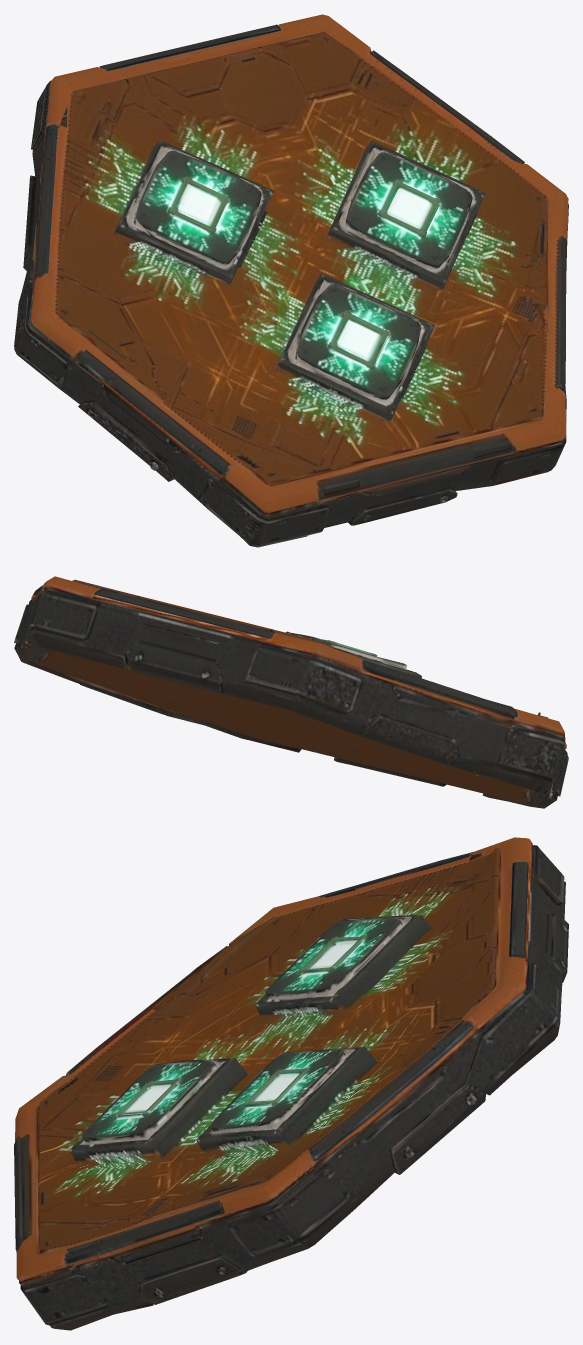
File: colline_v1.glb
The picture shows the model from 3 angles, top to bottom: view 1: azimuth 30°, elevation 25°; view 2: azimuth 150°, elevation 25°; view 3: azimuth 270°, elevation 25°; orthographic projection. The views are drawn at different scales.
Parts seen in each view (by area): view 1: tripo_node_44a103f0-3820-4a60-8407-451562a71c2d; view 2: tripo_node_44a103f0-3820-4a60-8407-451562a71c2d; view 3: tripo_node_44a103f0-3820-4a60-8407-451562a71c2d.
Boxes of the visible parts, bbox=[...] form: tripo_node_44a103f0-3820-4a60-8407-451562a71c2d: bbox=[14, 14, 568, 547]; tripo_node_44a103f0-3820-4a60-8407-451562a71c2d: bbox=[14, 576, 568, 808]; tripo_node_44a103f0-3820-4a60-8407-451562a71c2d: bbox=[14, 837, 568, 1330].
Bounding box in the file's own units: 0.9995 × 0.5571 × 0.8071.
1 material, 1 textured.
